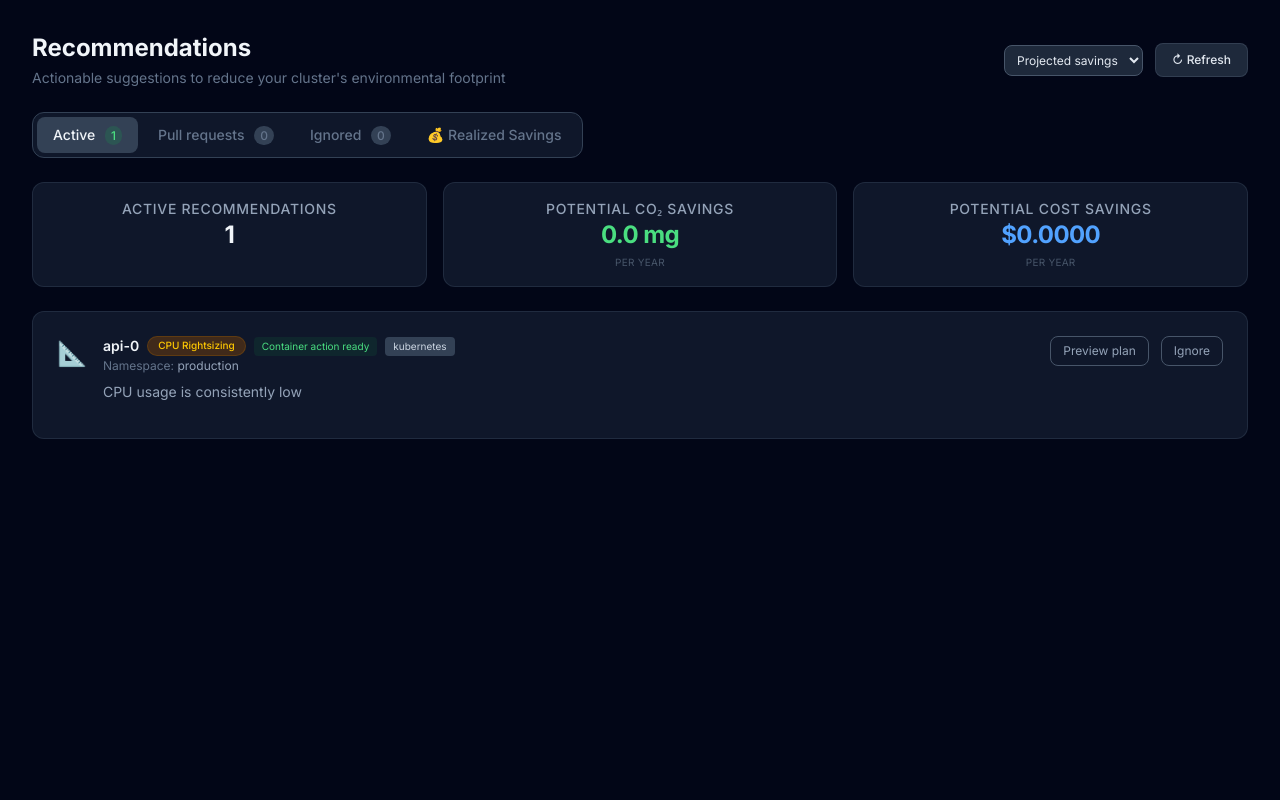
Test case: RecommendationsPage GitOps plan flow › shows policy rejection details when the API blocks plan creation
This screenshot has width=1280, height=800.
What coordinates should you click on to do the following:
click the button "Preview plan"
I would click on:
 (1100, 351)
Its box is [1050,336,1149,366].
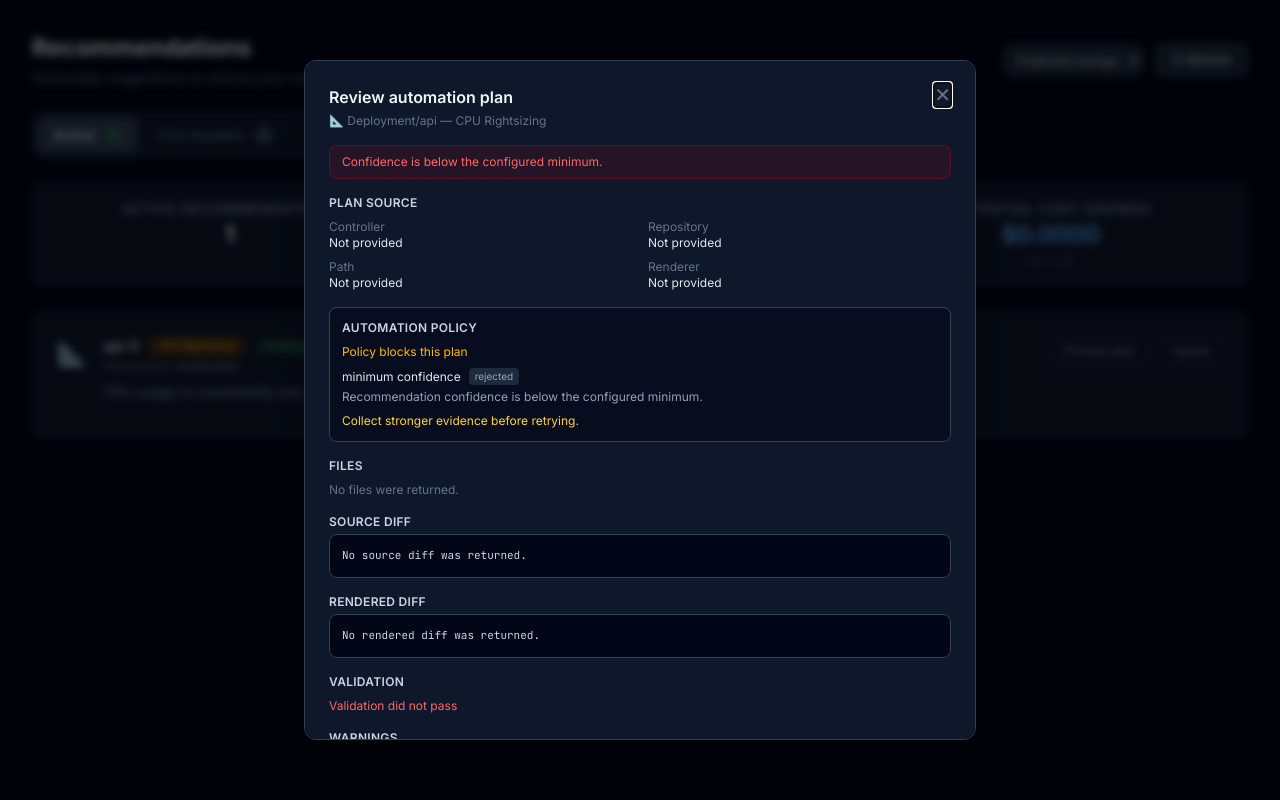
Expected: the text "Policy blocks this plan" is shown, [342,344,468,359]
Expected: the text "minimum confidence" is shown, [342,369,461,385]
Expected: the text "Collect stronger evidence before retrying." is shown, [342,413,579,428]
